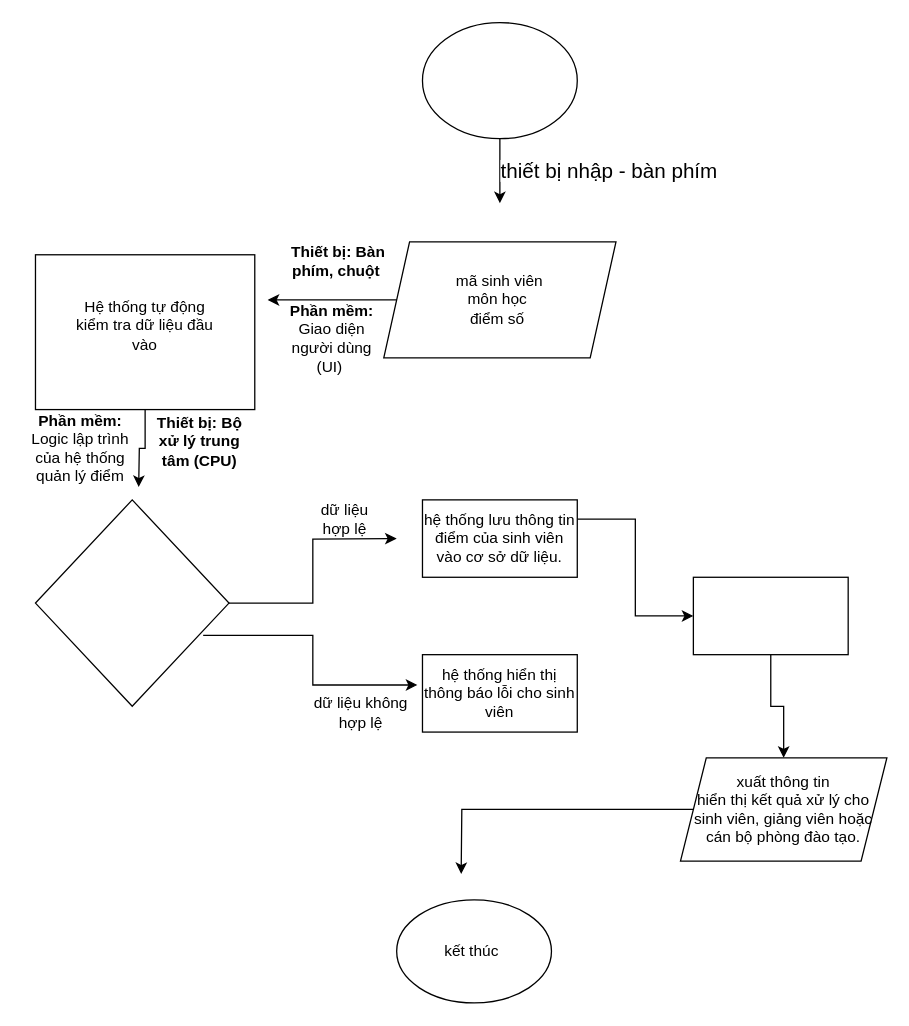
Image size: 909x1026. Some labels were removed from this diagram. The shapes that lost their labels are listed below. From the top down, each one's centre as x and y in pixels, then its label:
the point at 499,80: Bắt đầu
the point at 131,602: Hệ thống đưa ra quyết định dựa trên kết quả kiểm tra
the point at 770,615: xử lí dữ liệu
